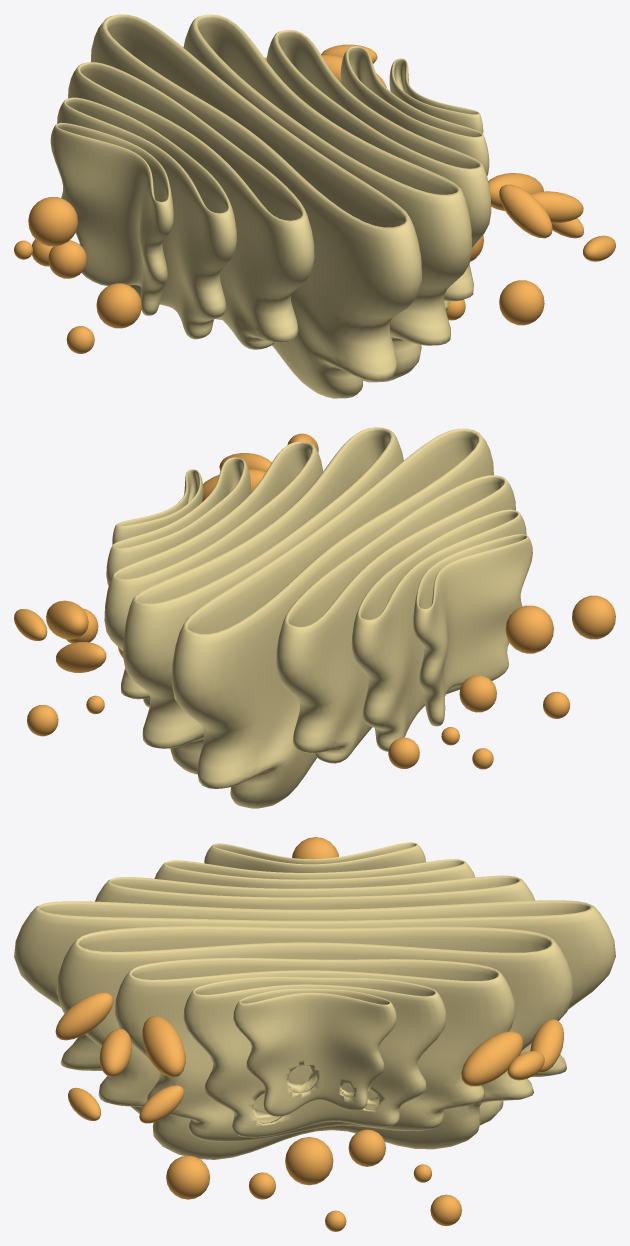
Rendered from golgi.glb.
3 views of the same model, one above another, from view 1: azimuth 30°, elevation 25°; view 2: azimuth 150°, elevation 25°; view 3: azimuth 270°, elevation 25° (orthographic). The views are drawn at different scales.
Parts seen in each view (by area): view 1: GA-material, vesicles-material; view 2: GA-material, vesicles-material; view 3: GA-material, vesicles-material.
Boxes of the visible parts, x1,y1,x2,y2 form: GA-material: (50,14,491,398); vesicles-material: (14,44,615,353); GA-material: (104,427,532,808); vesicles-material: (14,433,615,769); GA-material: (14,842,615,1159); vesicles-material: (55,837,563,1231).
Size of the model in its own units: 2.56 by 1.31 by 2.91.
